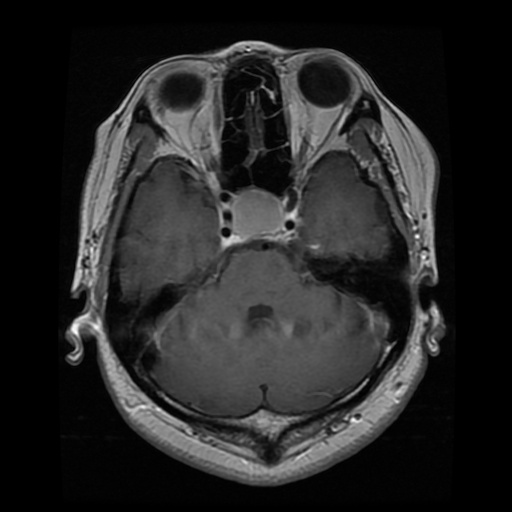pituitary: (232, 190, 285, 234)
